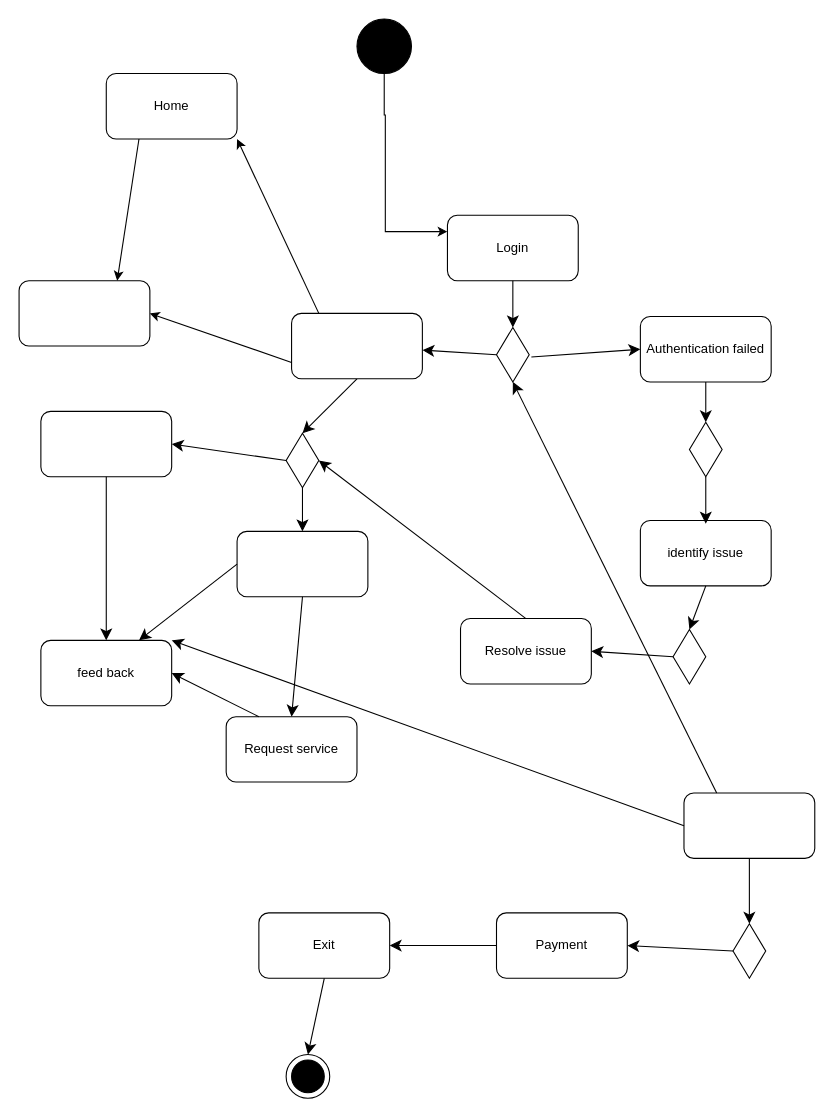
This 834x1117 diagram has some shape labels left out. The shapes that lost their labels are listed below. From the top down, each one's centre as x and y in pixels, then its label:
At point 84,313: "view rooms".
At point 356,345: "Authentication successful".
At point 106,443: "Order food".
At point 302,563: "Book room".
At point 749,825: "Checkout".
